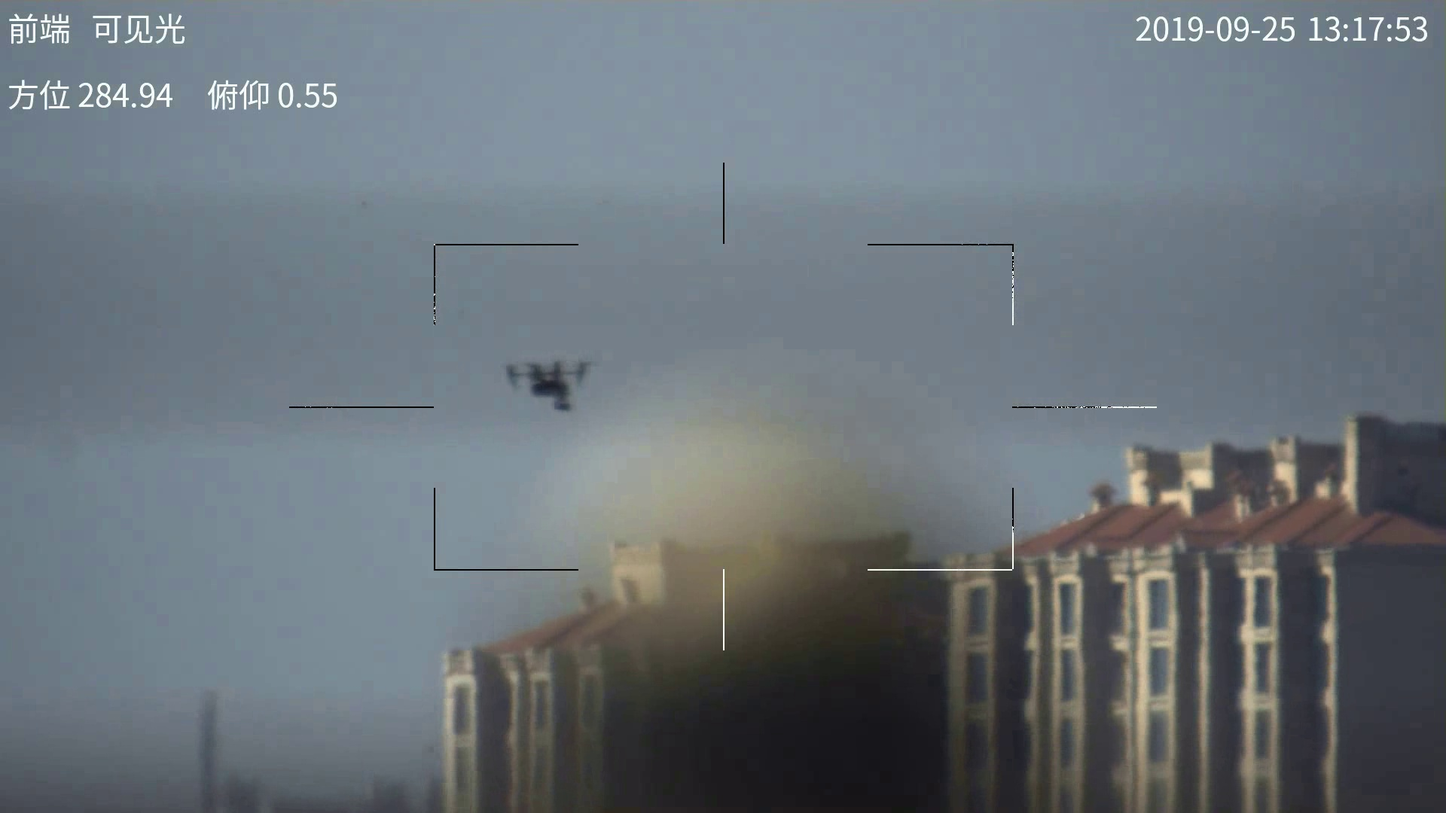drone_other: (493, 357, 591, 411)
